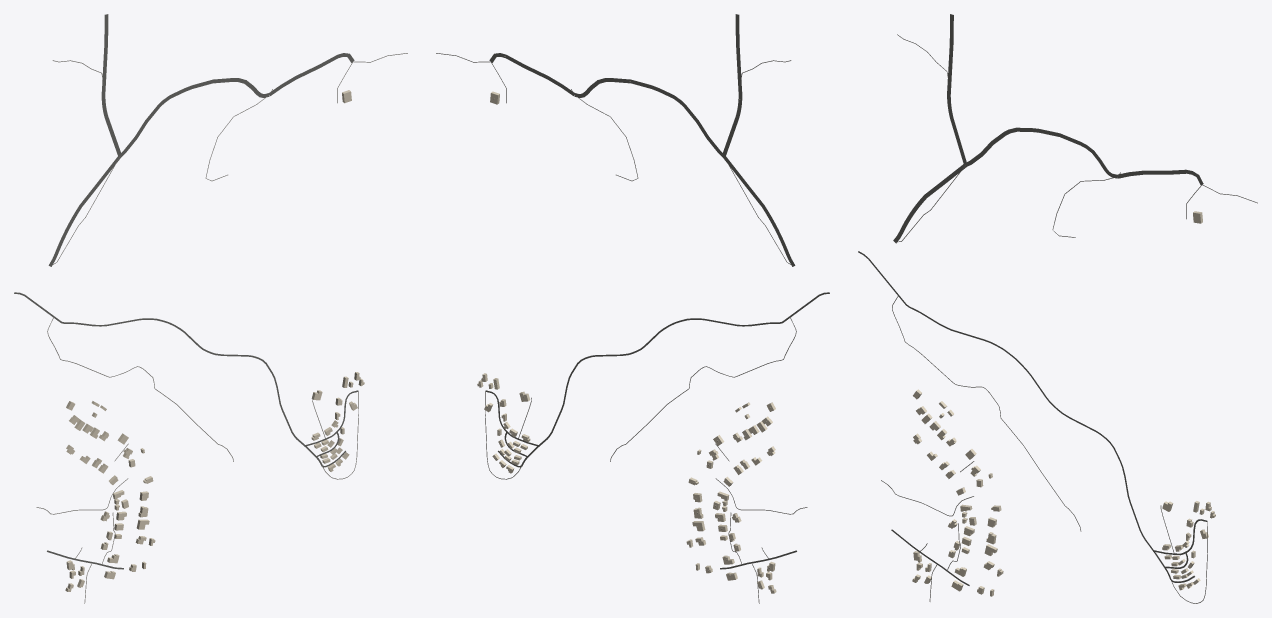
The model's file is historic-palestine-11_26_3534_3205.glb.
3 renders of one model, left to right at view 1: azimuth 30°, elevation 25°; view 2: azimuth 150°, elevation 25°; view 3: azimuth 330°, elevation 25°, orthographic.
Parts seen in each view (by area): view 1: Road .006, Road 5043, Road 5044; view 2: Road .006, Road 5043, Road 5044; view 3: Road .006, Road 5043, Road 5044.
Part boxes in pixels (<box>): Road .006: <box>14,292,345,467</box>; Road 5043: <box>119,78,269,156</box>; Road 5044: <box>101,14,121,156</box>; Road .006: <box>498,292,829,467</box>; Road 5043: <box>574,78,723,157</box>; Road 5044: <box>722,14,742,156</box>; Road .006: <box>858,251,1194,582</box>; Road 5043: <box>965,127,1117,178</box>; Road 5044: <box>947,14,967,165</box>.
Size of the model in its own units: 853 by 1209 by 8.7.
